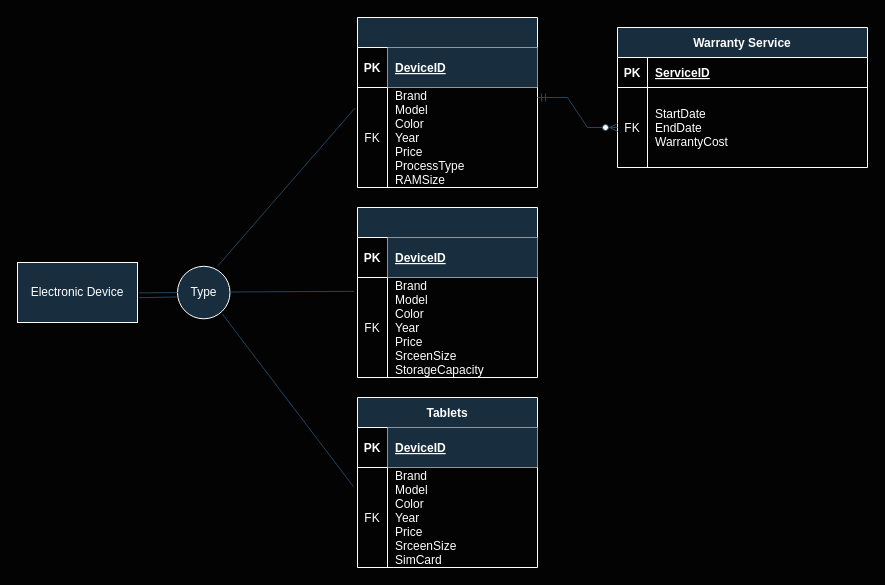
The diagram is 885 pixels wide and 585 high, and some of its shapes have lost their labels. Here are the shapes that lost their labels. From the top down, the box of each, then its label:
(356, 16, 538, 188): Laptop
(356, 206, 538, 378): Smartphones
